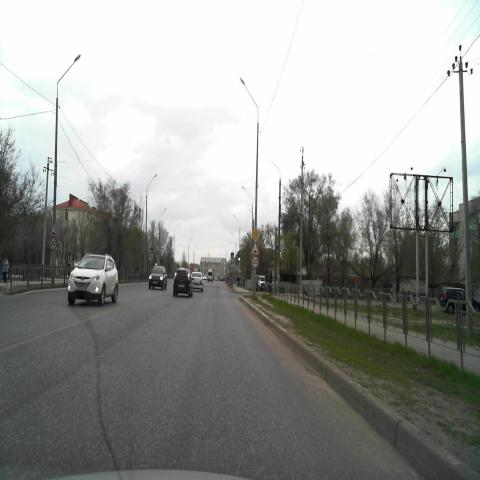1_17: (48, 222, 58, 236), (252, 243, 258, 254)
2_1: (250, 226, 260, 243)
3_24: (48, 237, 57, 250), (252, 256, 258, 267)
